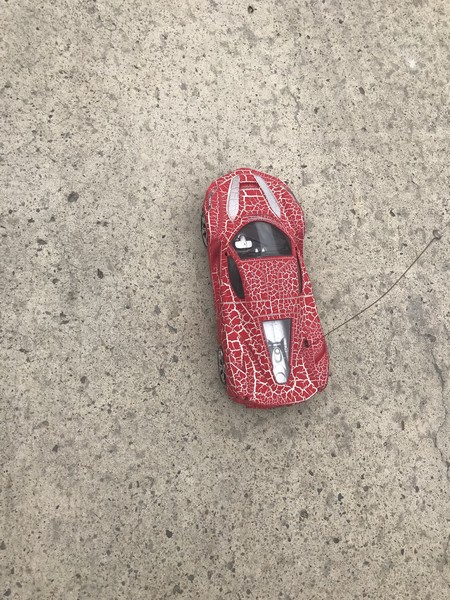RC: (199, 168, 335, 410)
